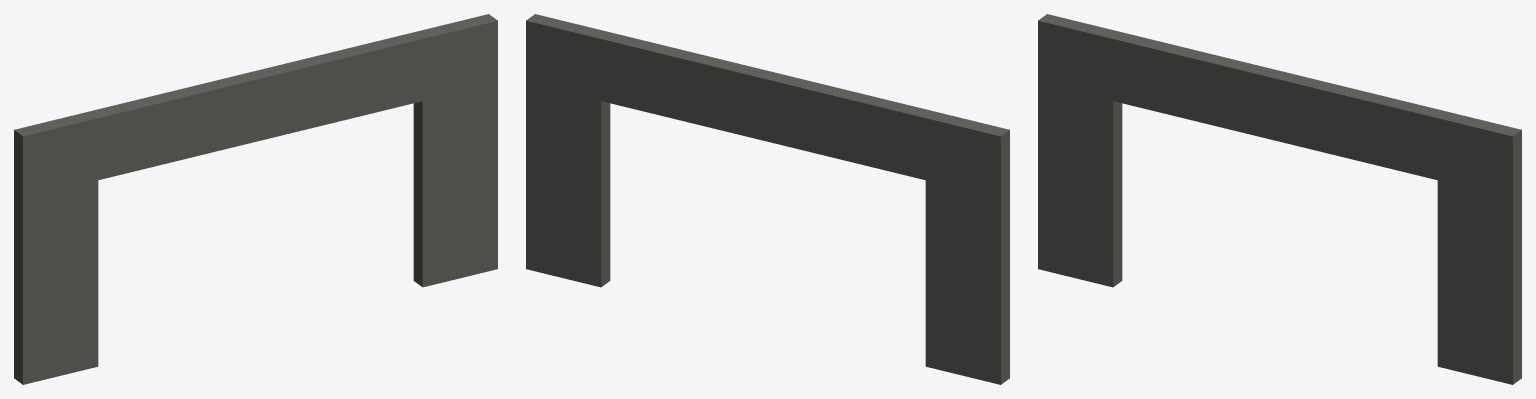
File: SM_Garage_Door.gltf
The picture shows the model from 3 angles, left to right: view 1: azimuth 30°, elevation 25°; view 2: azimuth 150°, elevation 25°; view 3: azimuth 330°, elevation 25°; orthographic projection.
Visible parts, largest first — view 1: SM_Garage_Door; view 2: SM_Garage_Door; view 3: SM_Garage_Door.
Boxes of the visible parts, x1=… form: SM_Garage_Door: x1=14, y1=14, x2=497, y2=384; SM_Garage_Door: x1=526, y1=14, x2=1009, y2=384; SM_Garage_Door: x1=1038, y1=14, x2=1521, y2=384.
Size of the model in its own units: 6 by 3 by 0.2.
Materials: 1 (1 with a texture image).
